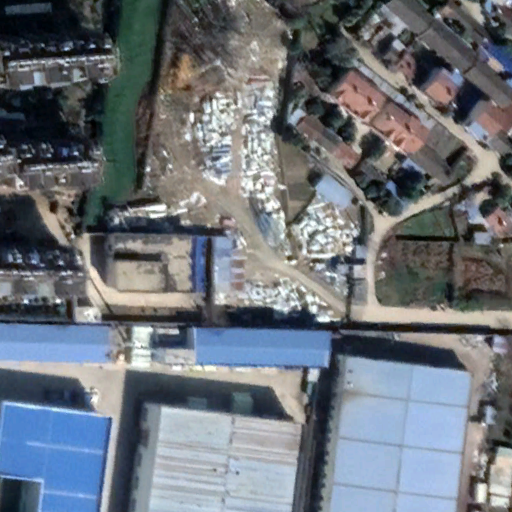msw: (194, 84, 355, 322)
